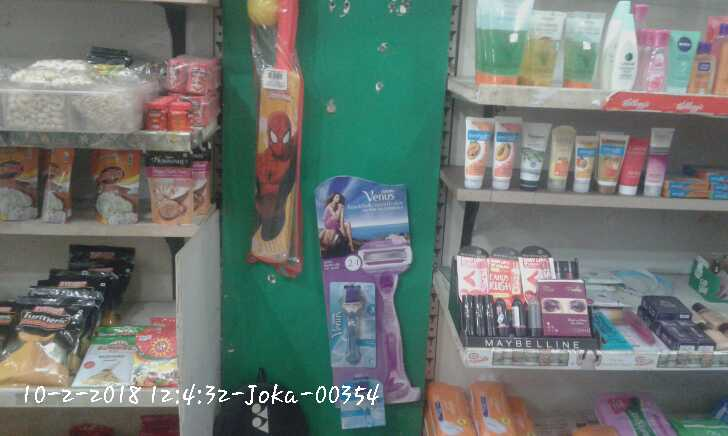venus: (332, 275, 377, 370)
